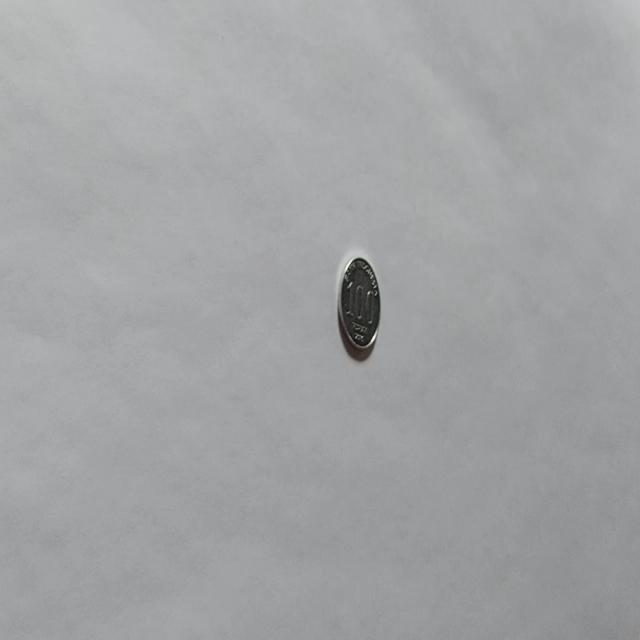seratus rupiah: (337, 254, 381, 356)
